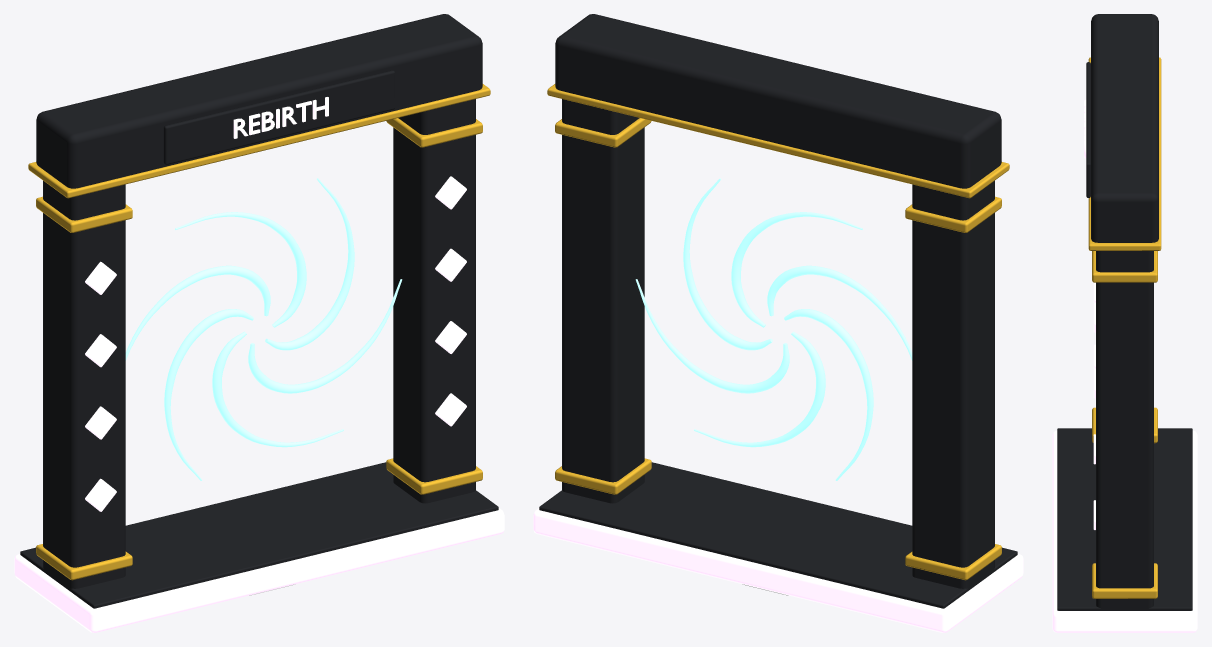
The model's file is RebirthGate.fbx.
3 renders of one model, left to right at view 1: azimuth 30°, elevation 25°; view 2: azimuth 150°, elevation 25°; view 3: azimuth 270°, elevation 25°, orthographic. The views are drawn at different scales.
Visible parts, largest first — view 1: Body__Black, Body__NeonPurple, Swirl__NeonCyan, Body__Gold; view 2: Body__Black, Body__NeonPurple, Swirl__NeonCyan, Body__Gold; view 3: Body__Black, Body__NeonPurple, Body__Gold.
Part boxes in pixels (x1,y1,x2,y2): Body__Black: (20,14,498,608); Body__NeonPurple: (14,97,504,632); Swirl__NeonCyan: (125,178,402,480); Body__Gold: (28,84,490,580); Body__Black: (539,14,1017,608); Body__NeonPurple: (533,508,1023,632); Swirl__NeonCyan: (635,178,912,480); Body__Gold: (547,84,1009,580); Body__Black: (1057,14,1192,610); Body__NeonPurple: (1052,99,1197,632); Body__Gold: (1088,57,1161,598).
Size of the model in its own units: 9.2 by 10.5 by 3.
